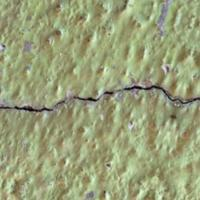crack: (0, 60, 199, 140)
